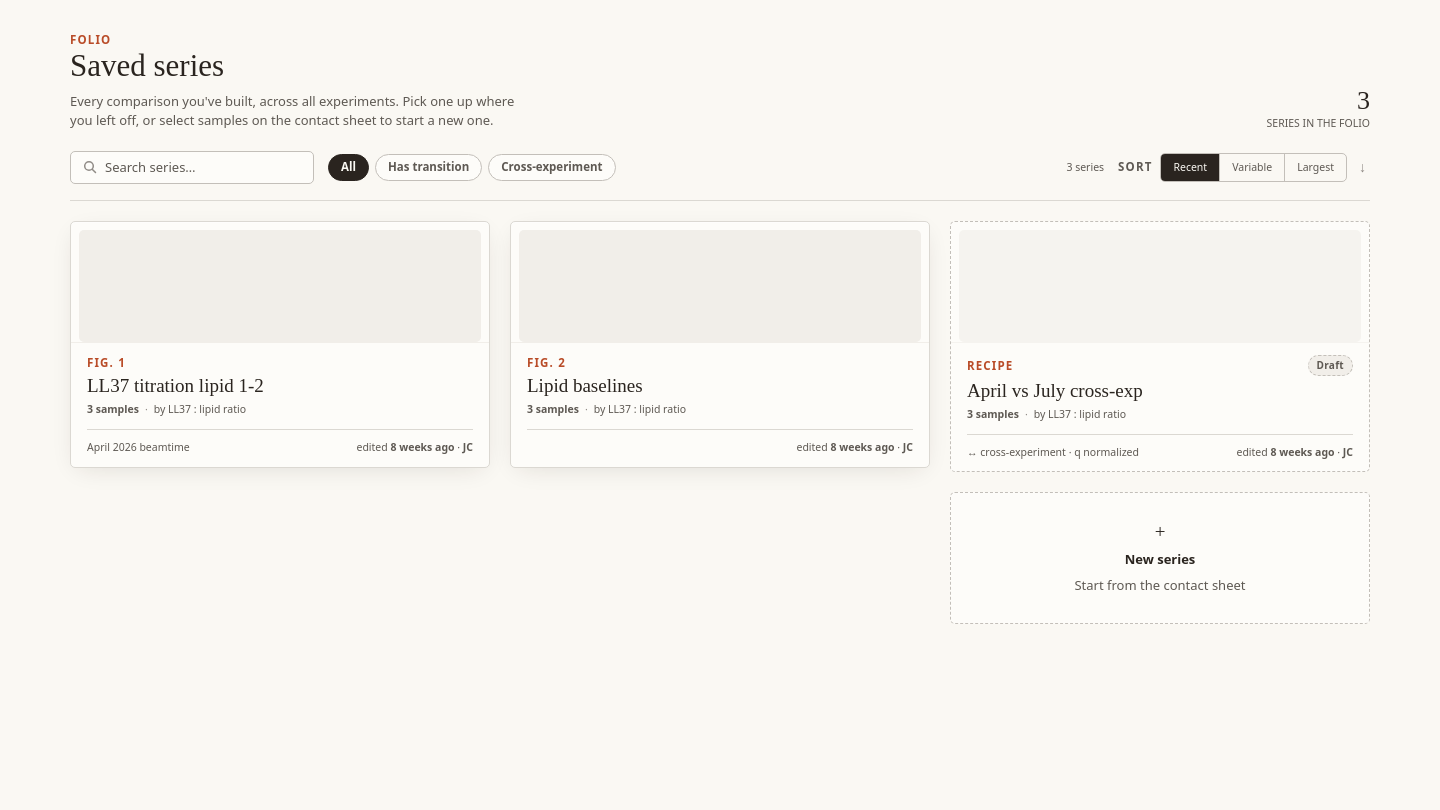
SeriesFolioPage › Has transition filter drops single-phase series
Click the button with test id "filter-chip". click: (429, 167)
box: [375, 154, 482, 180]
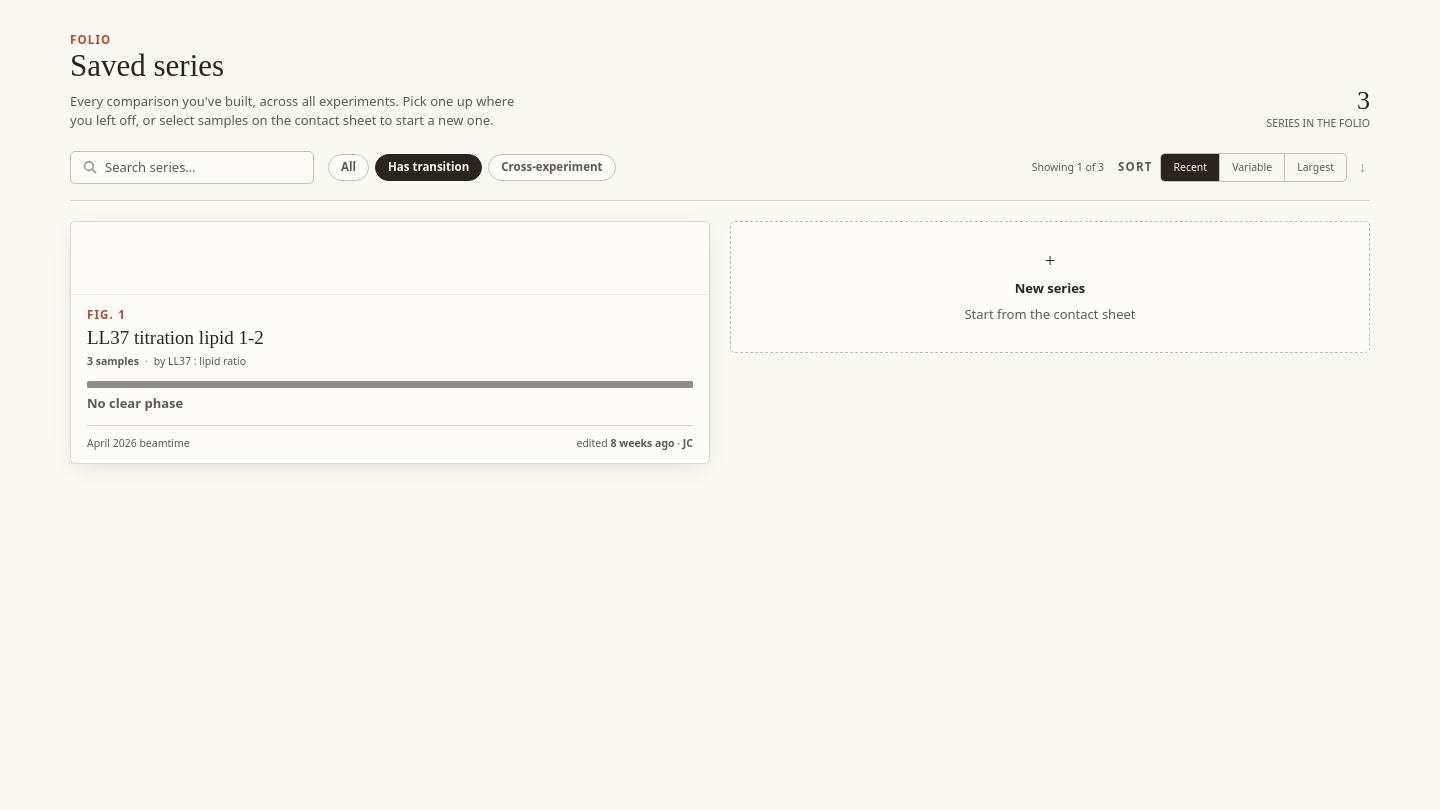
Now the number of elements with test id "series-card" is 1, box [70, 221, 710, 464]
